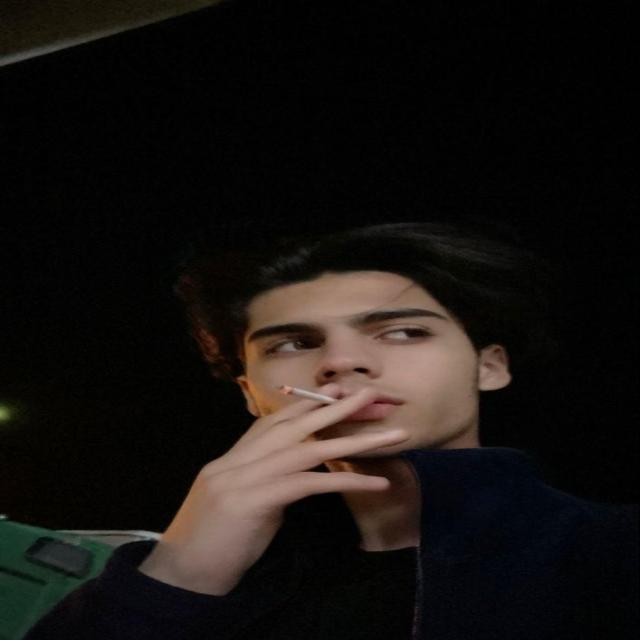cigarette: (268, 376, 357, 411)
